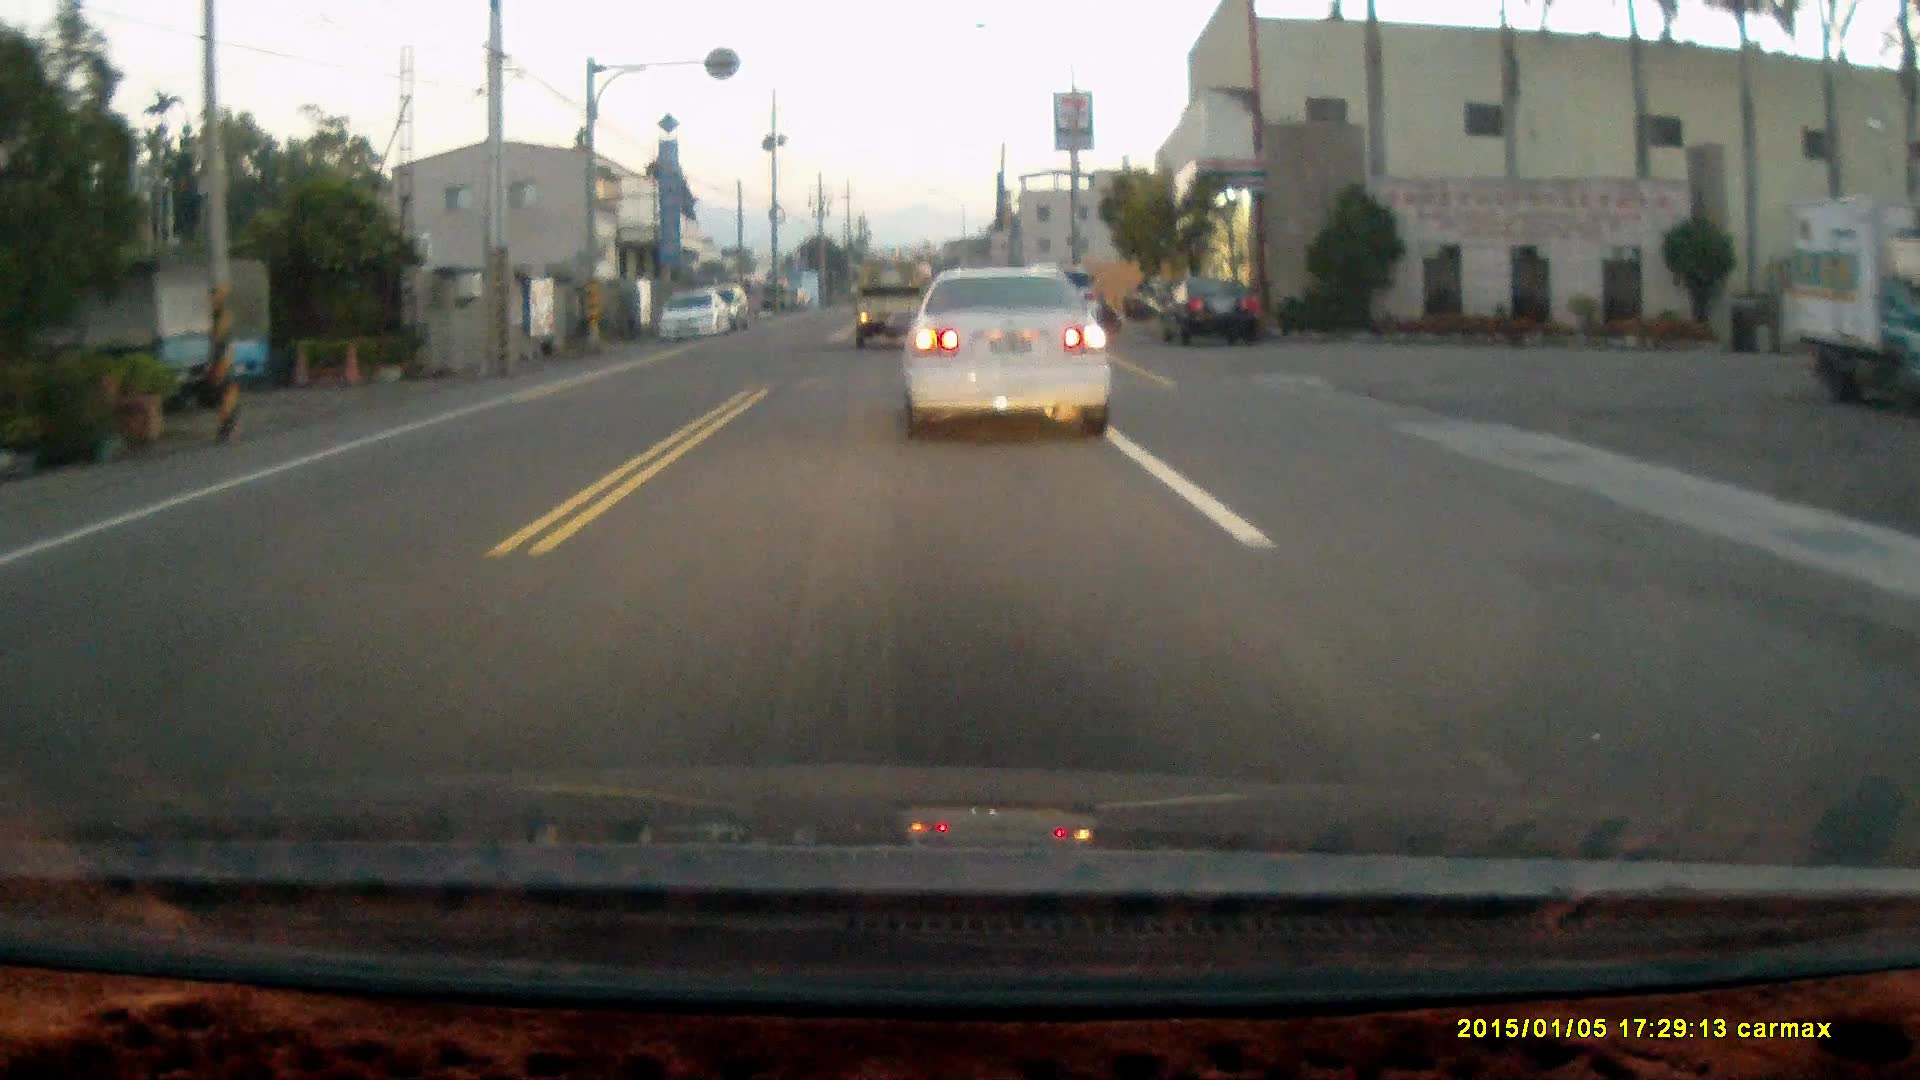vehicle: (905, 260, 1120, 448), (1795, 212, 1920, 433), (1153, 276, 1266, 345), (853, 262, 928, 349), (651, 285, 735, 343)
